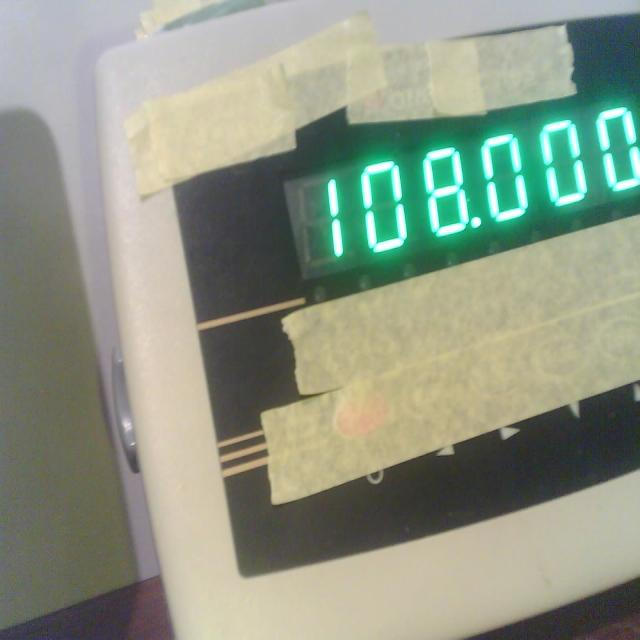.: (469, 215, 485, 229)
0: (593, 36, 640, 263), (538, 67, 589, 259), (480, 98, 529, 257), (361, 161, 406, 252)
1: (327, 178, 344, 256)
8: (421, 112, 473, 272)
